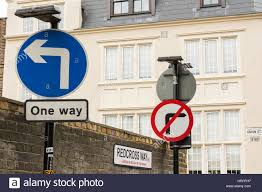No_right_turn: (150, 99, 193, 142)
